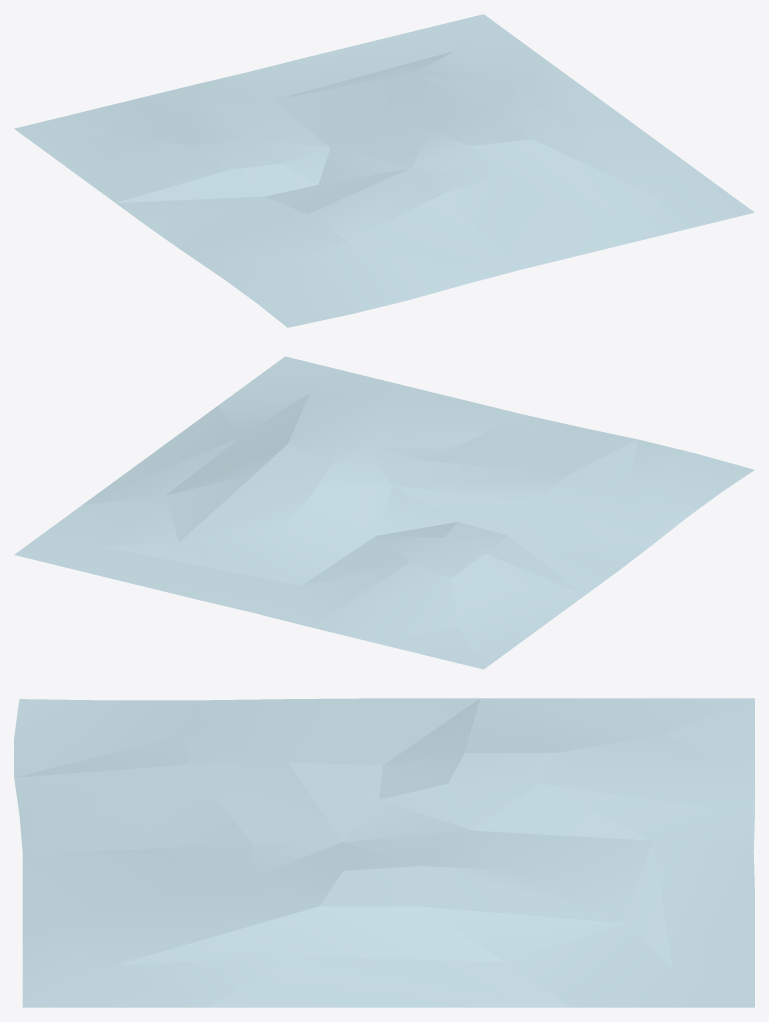
File: Tileset_Nieve02.glb
The picture shows the model from 3 angles, top to bottom: view 1: azimuth 30°, elevation 25°; view 2: azimuth 150°, elevation 25°; view 3: azimuth 270°, elevation 25°; orthographic projection. The views are drawn at different scales.
Visible parts, largest first — view 1: SM_Env_DirtMound_01_Snow; view 2: SM_Env_DirtMound_01_Snow; view 3: SM_Env_DirtMound_01_Snow.
Part boxes in pixels (bbox=[...]): SM_Env_DirtMound_01_Snow: bbox=[14, 14, 754, 327]; SM_Env_DirtMound_01_Snow: bbox=[14, 356, 754, 669]; SM_Env_DirtMound_01_Snow: bbox=[14, 698, 754, 1007].
Bounding box in the file's own units: 17.04 × 0.7012 × 17.25.
1 material, 1 textured.
